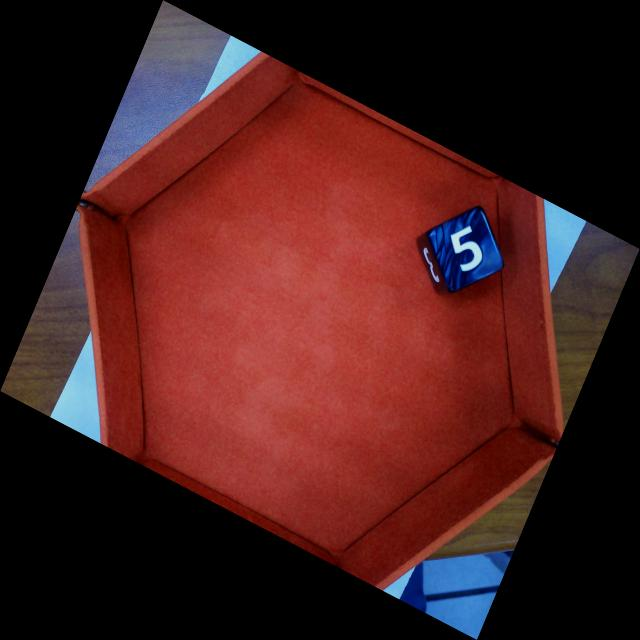dice: (425, 204, 506, 295)
